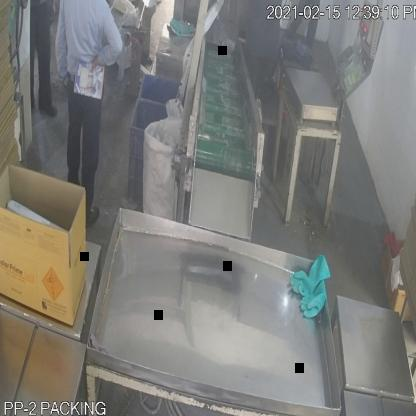glove: (288, 235, 339, 335)
no_glove: (89, 6, 123, 90)
